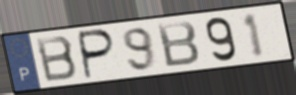1: (241, 11, 265, 60)
9: (122, 26, 159, 71), (204, 15, 239, 62)
B: (155, 19, 202, 69), (33, 34, 80, 84)
P: (78, 28, 118, 82)
